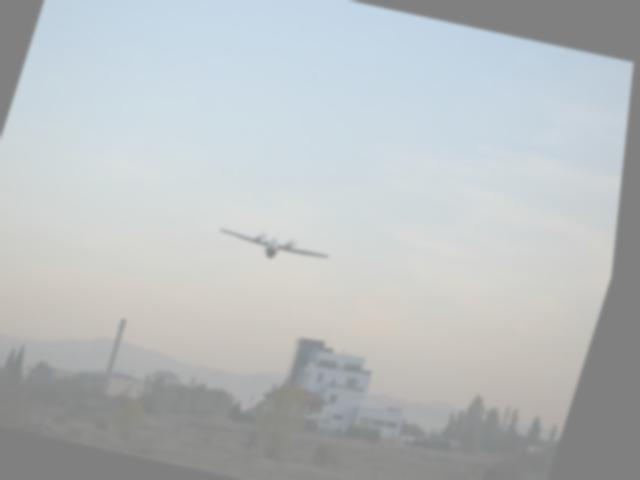plane: (217, 220, 341, 272)
